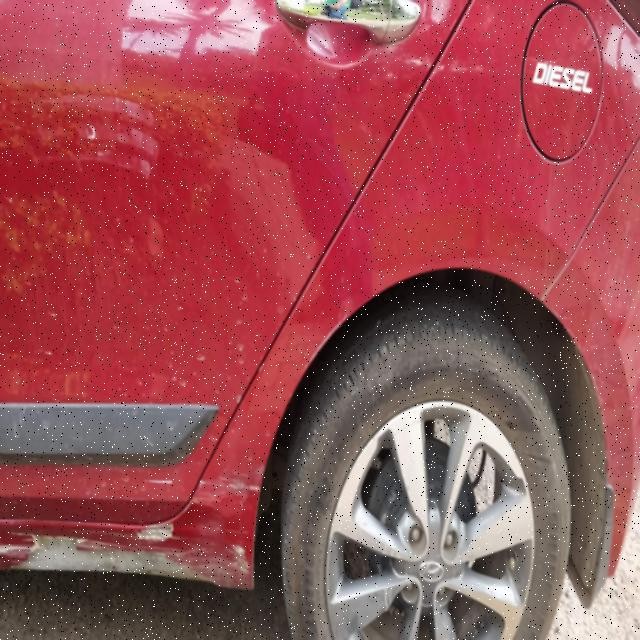RunningBoard-Dent: (1, 507, 282, 602)
